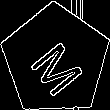M_NE: (23, 26, 89, 94)
